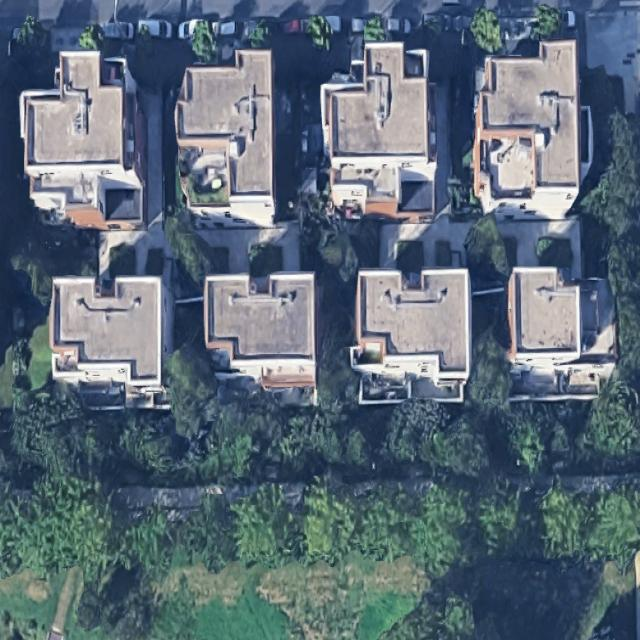immeuble: (20, 49, 149, 231), (317, 38, 441, 224), (471, 35, 596, 219), (174, 49, 277, 228), (49, 276, 173, 410), (350, 268, 471, 403), (506, 264, 618, 400), (205, 273, 316, 403)
